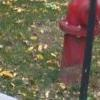Hydrant: (52, 0, 94, 100)
